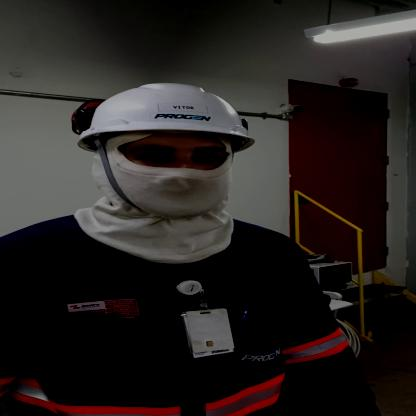Balaclava: (71, 138, 240, 263)
Capacete: (66, 83, 268, 155)
